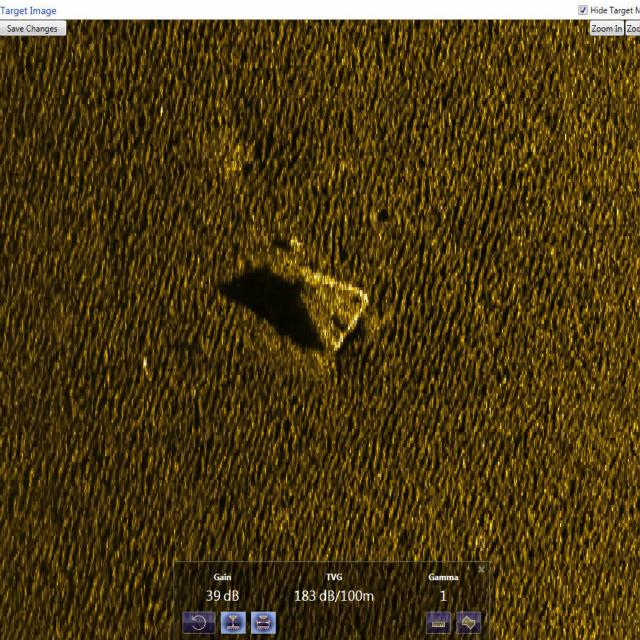other: (243, 238, 392, 376)
